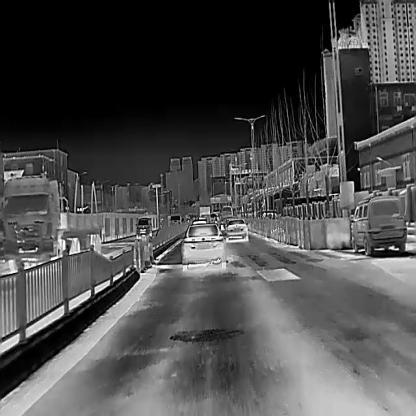car: (1, 176, 103, 270), (350, 195, 406, 253), (180, 223, 226, 268), (226, 218, 249, 241), (136, 216, 152, 237), (198, 205, 210, 217), (220, 205, 233, 216), (170, 214, 181, 226), (201, 214, 210, 223), (192, 220, 206, 224)
